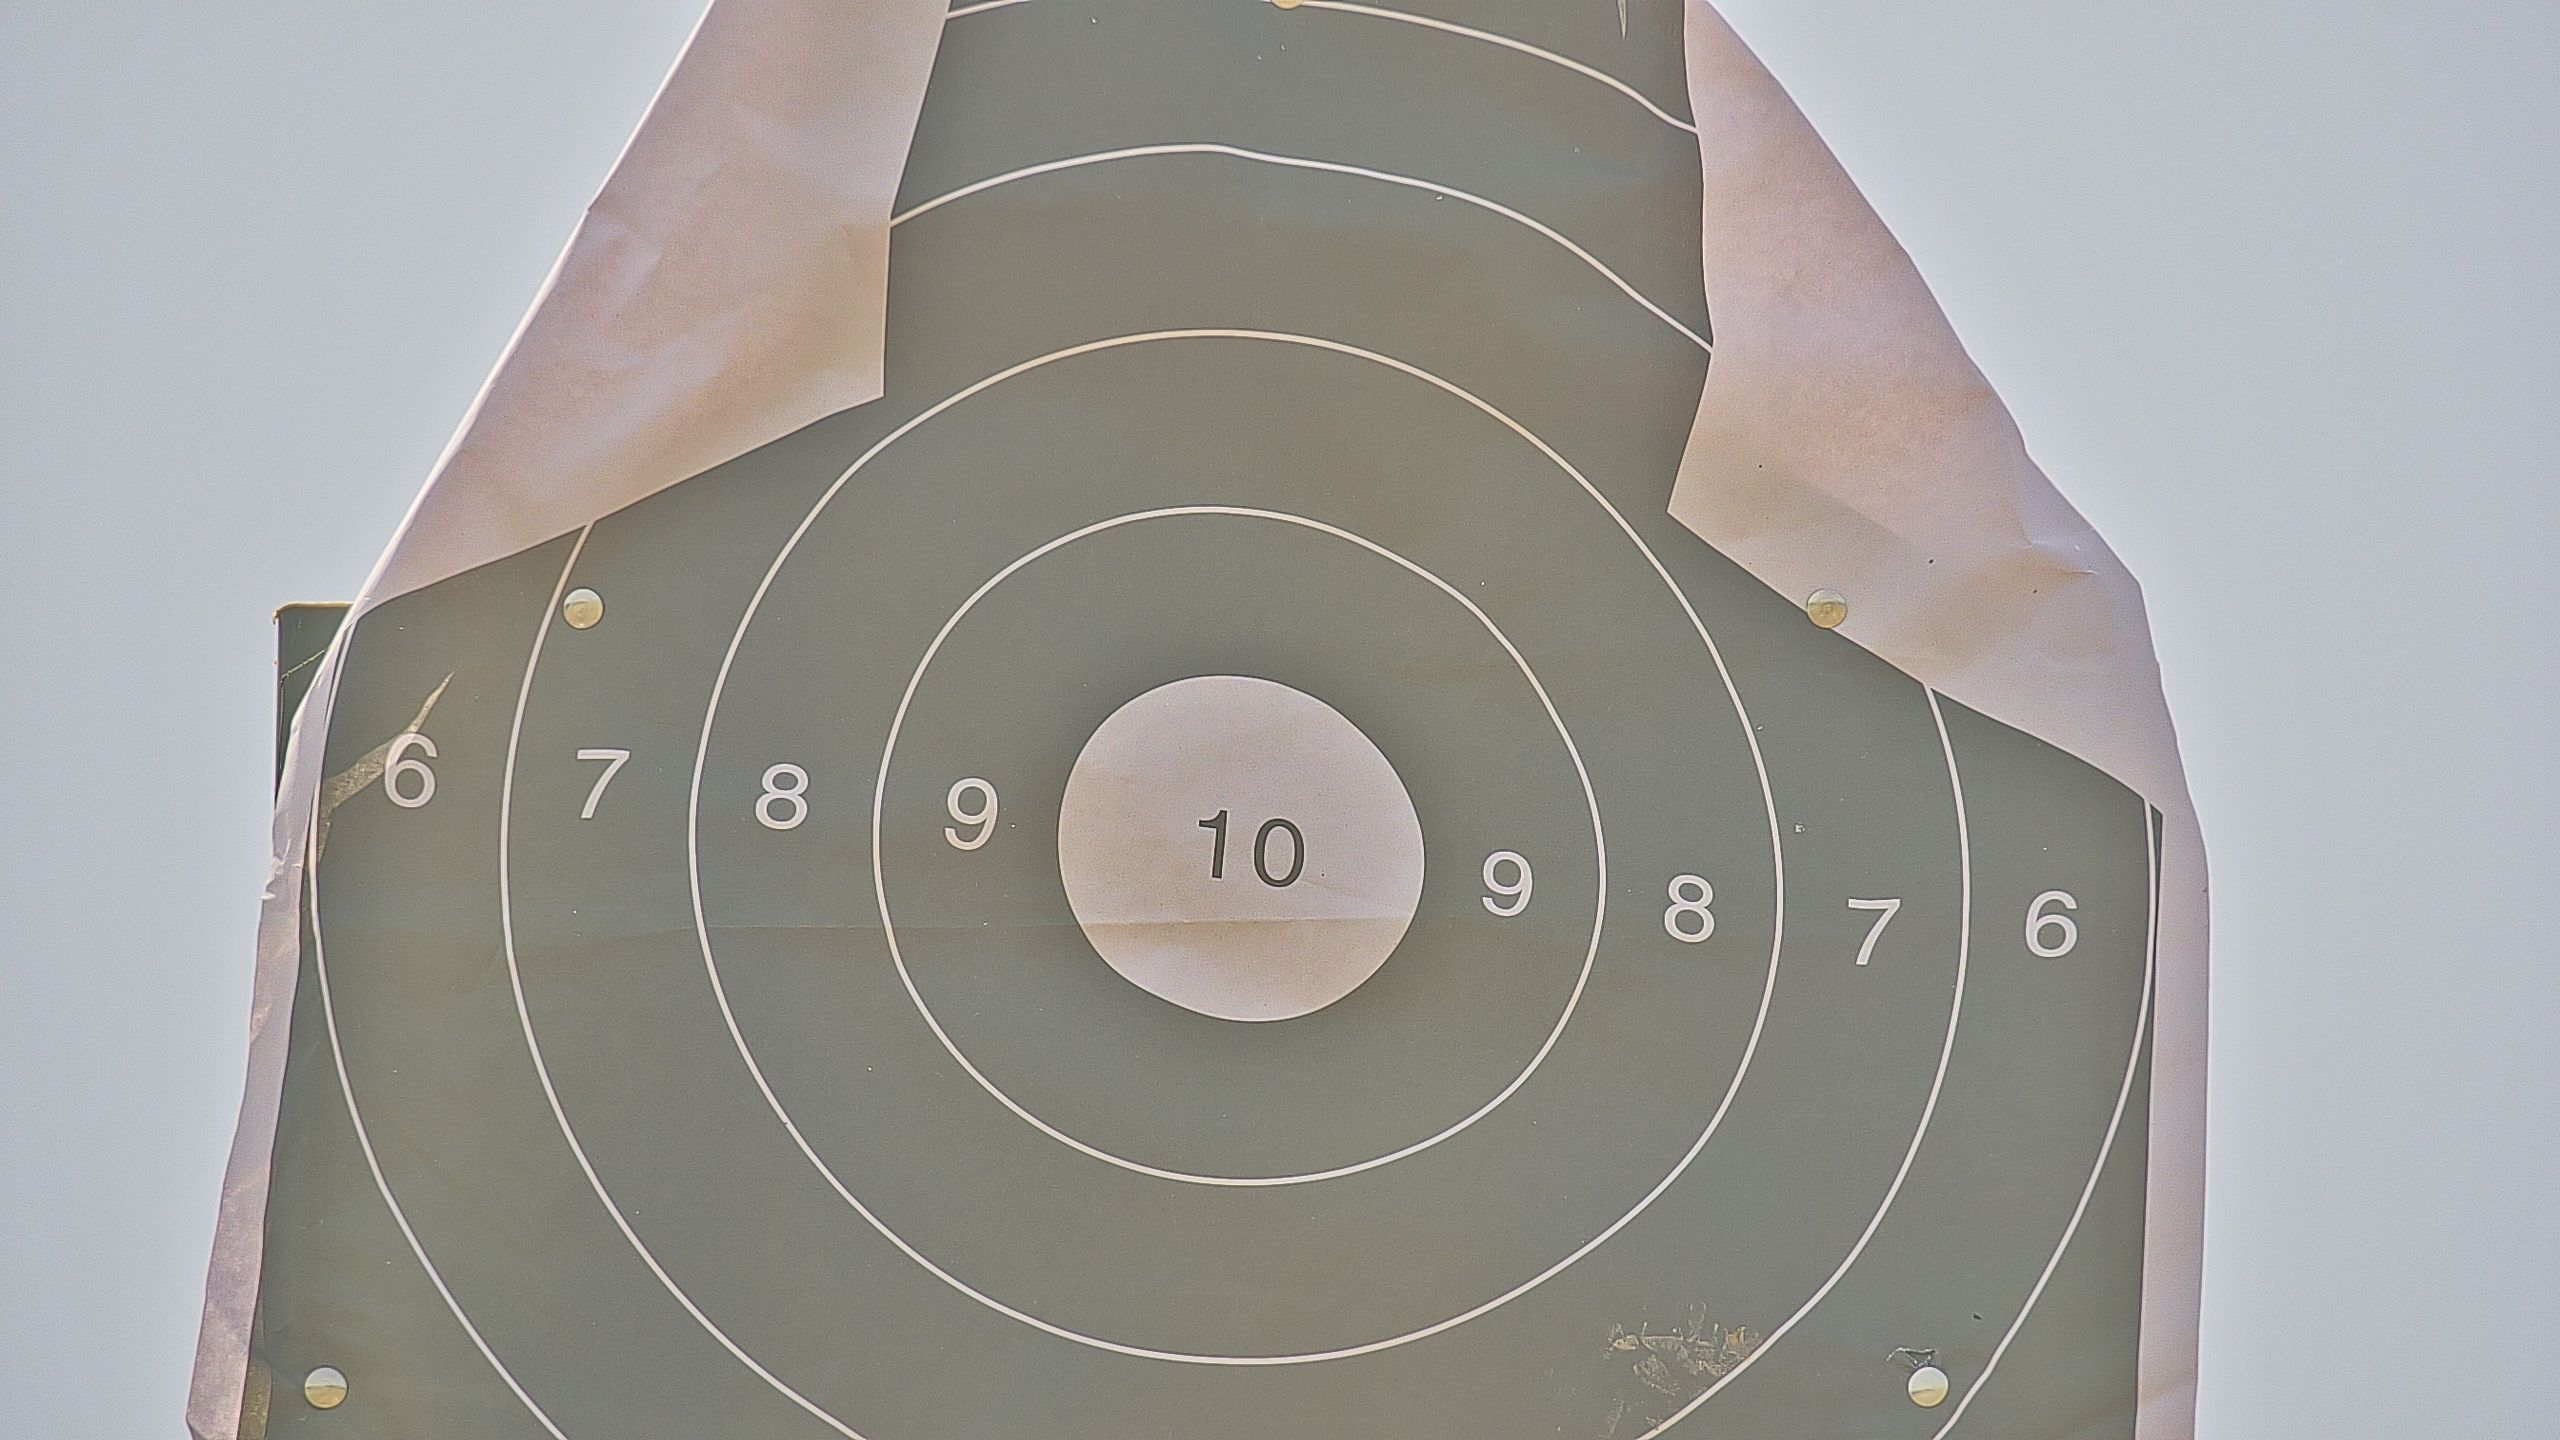kernel: (1238, 851, 1241, 856)
target: (225, 11, 2164, 1440)
ten: (1057, 672, 1428, 1023)
